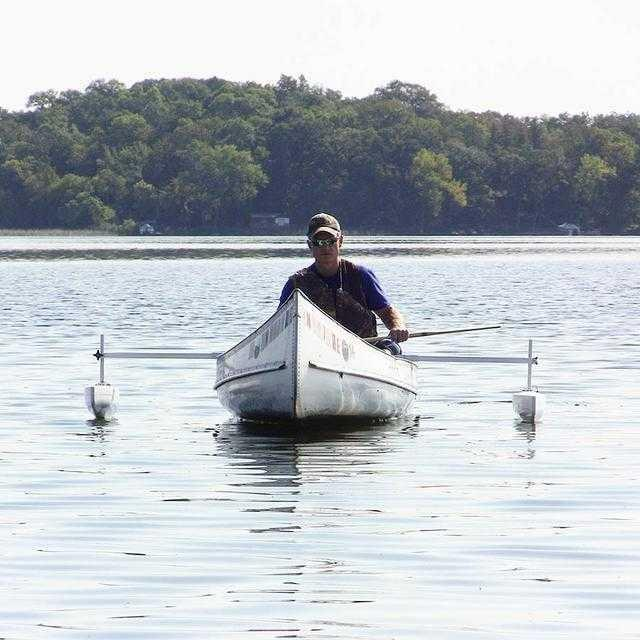kayak: (213, 289, 419, 426)
